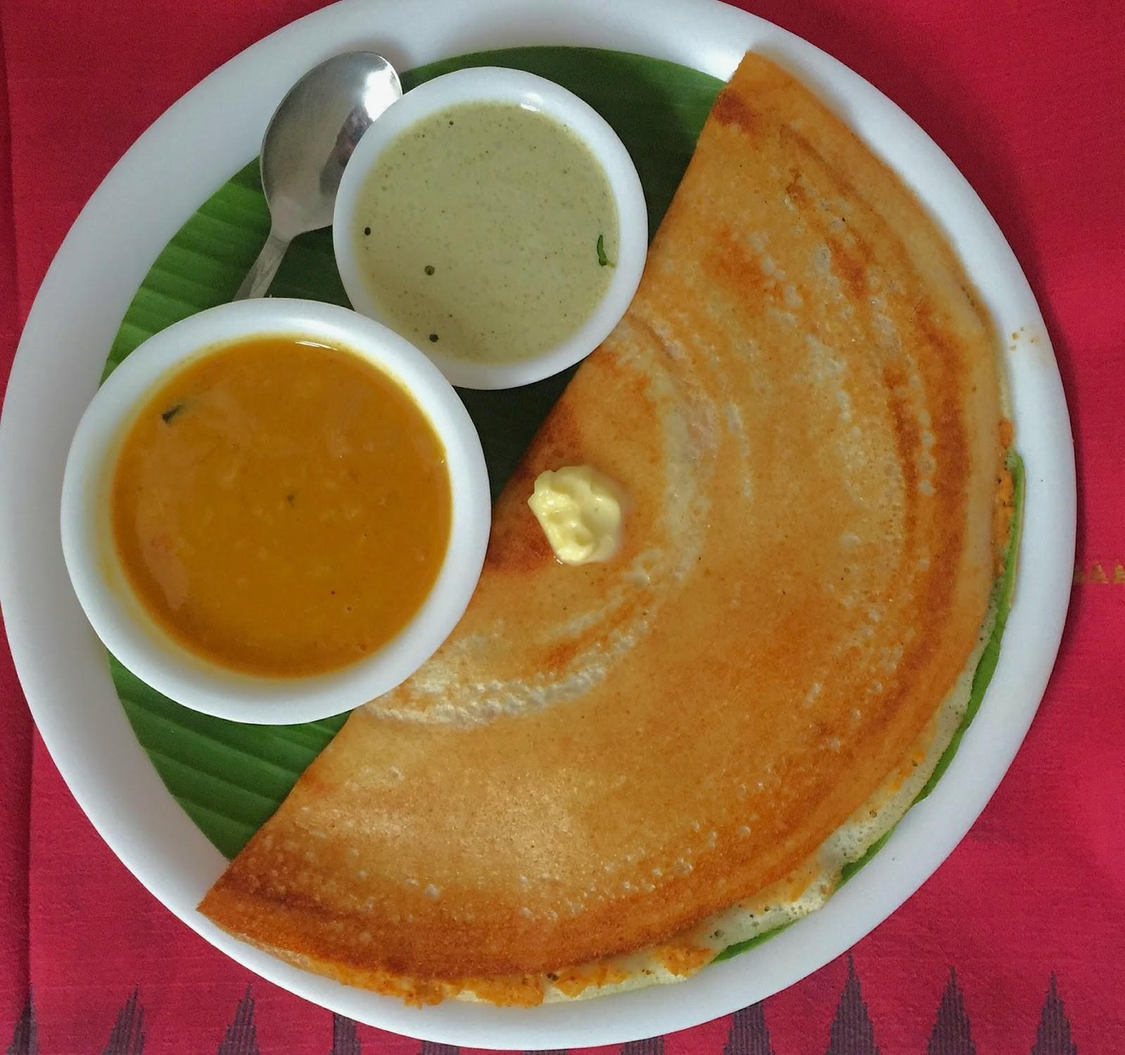CoconutChutney: (350, 100, 620, 363)
Dosa: (195, 49, 1013, 1013)
